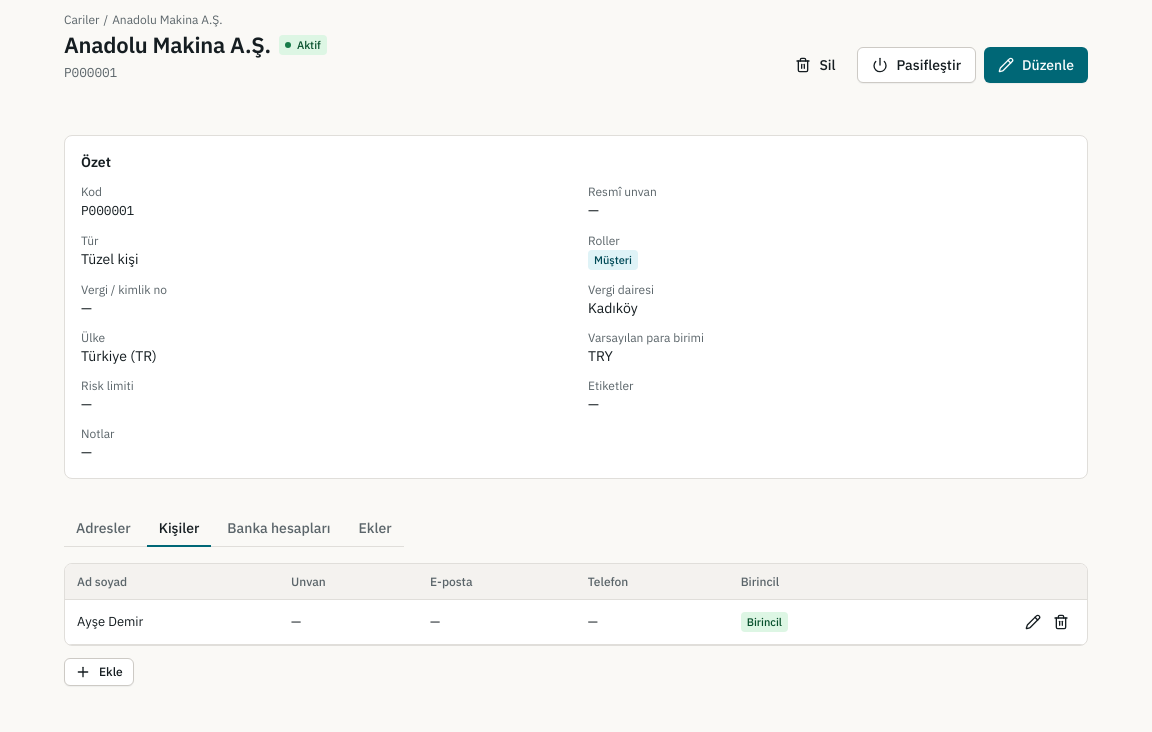
PartyDetailPage › pins the row version while editing and flags a change made elsewhere
Expected: the text "Ayşe Demir" is shown, x1=65 y1=600 x2=279 y2=645
Click the button named "Düzenle: 1. satır" at (1033, 622), box x1=1019 y1=608 x2=1047 y2=636
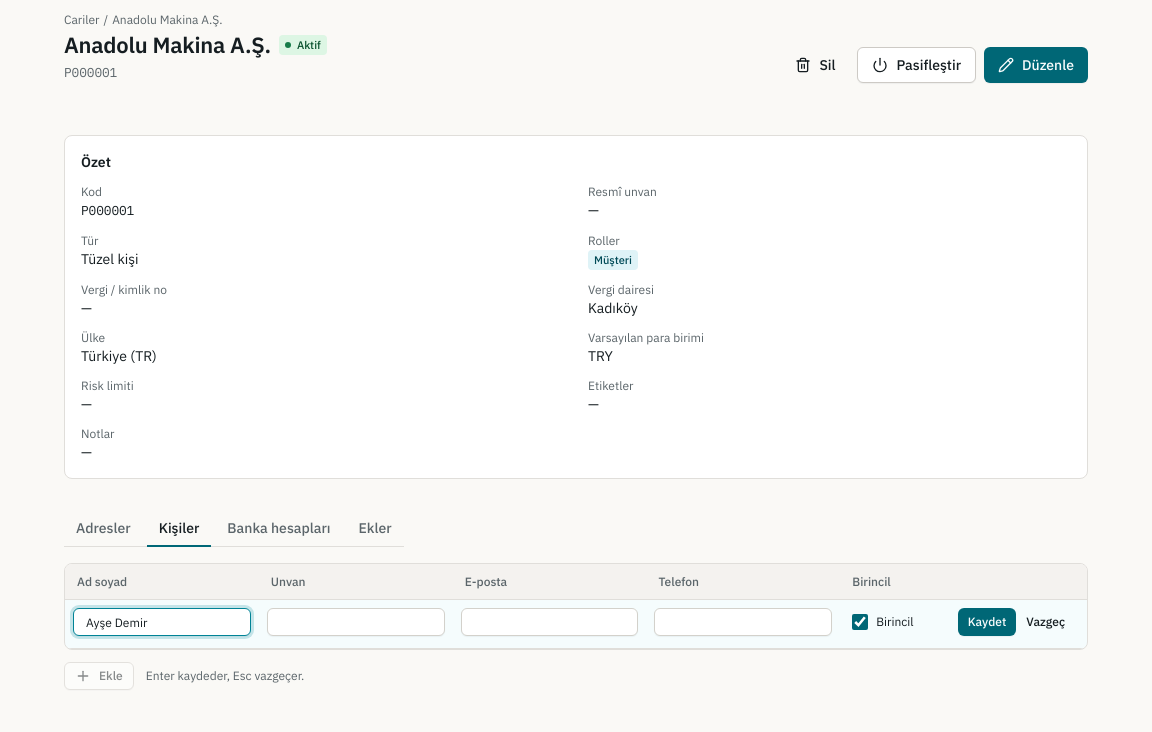
Type "Muhasebe" into the field named "Unvan" at (356, 622), box x1=267 y1=608 x2=445 y2=636
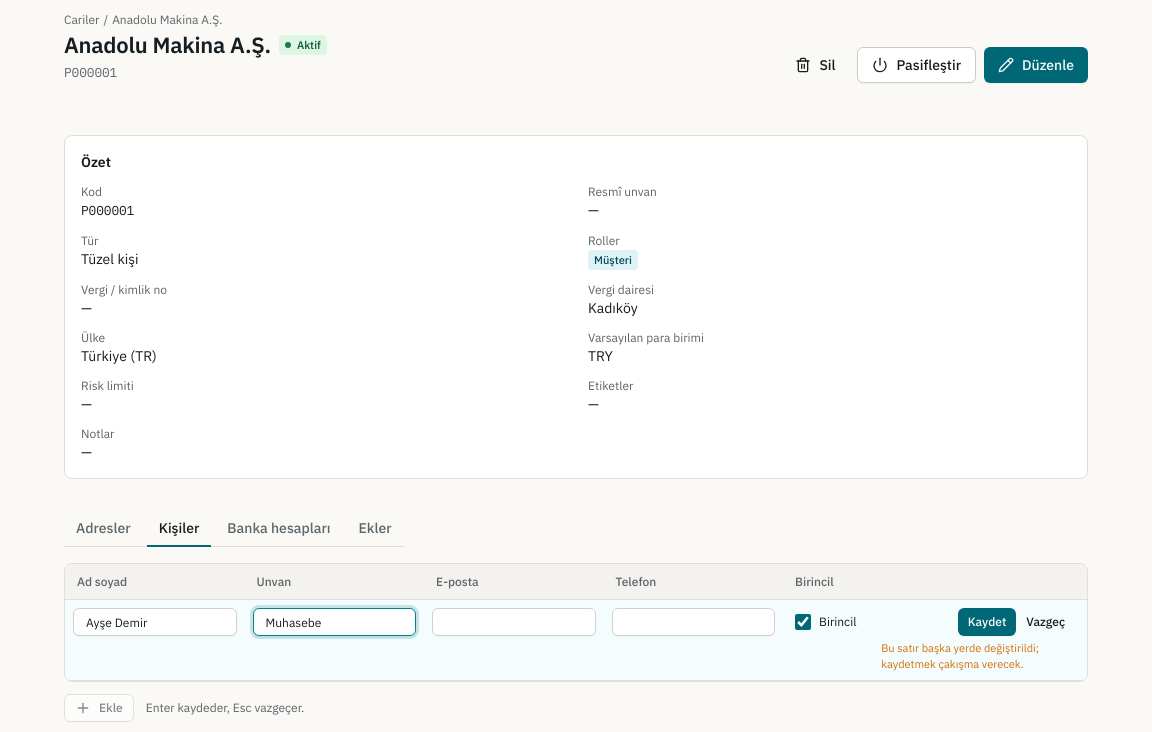
Expected: the text "Bu satır başka yerde değiştirildi; kaydetmek çakışma verecek." is shown, x1=881 y1=641 x2=1039 y2=671
Click the button "Kaydet" at (987, 622), box x1=958 y1=608 x2=1016 y2=636
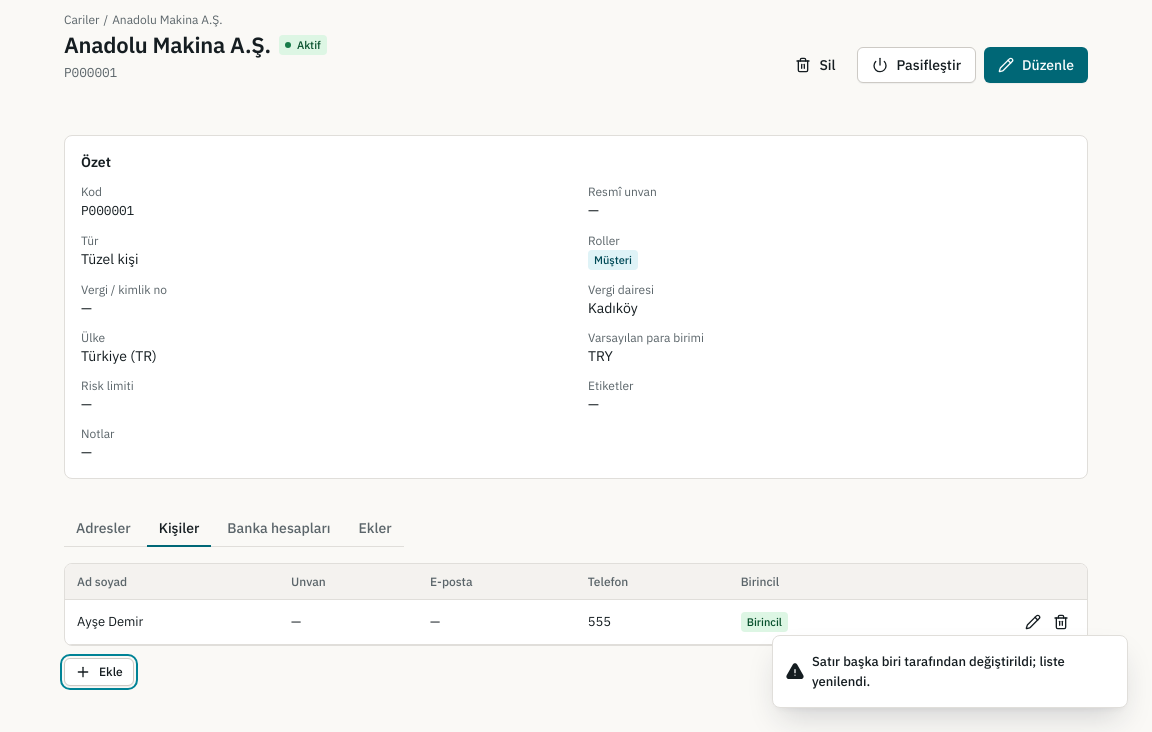
Expected: the text "Satır başka biri tarafından değiştirildi; liste yenilendi." is shown, x1=812 y1=653 x2=1065 y2=690
